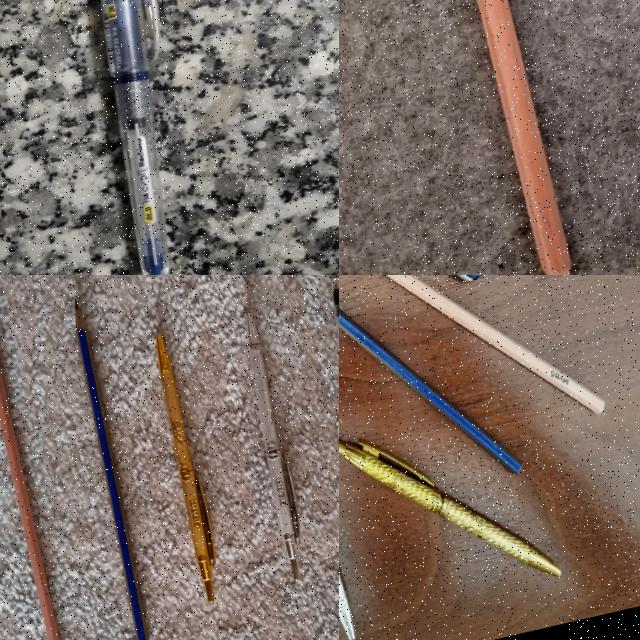pen: (101, 0, 168, 274), (301, 275, 339, 554)
pencil: (64, 308, 164, 640), (339, 308, 521, 473), (387, 275, 605, 412), (477, 0, 570, 274), (0, 301, 74, 640)
signature pen: (339, 395, 563, 618), (145, 322, 225, 590), (246, 312, 299, 578)
